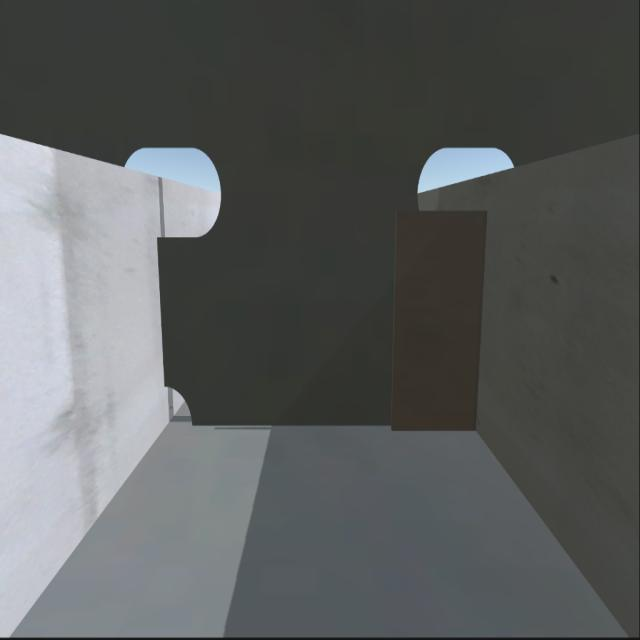fillet_hole: (164, 388, 197, 427)
fillet_yong_jeop_jang: (188, 424, 478, 430)
longi_yong_jeop_jang: (470, 213, 491, 434), (154, 239, 168, 391)
plate_CP01: (386, 212, 483, 430)
